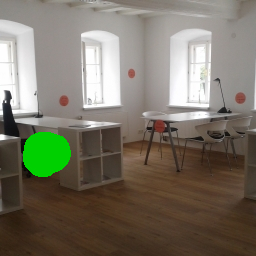focus: (14, 122, 77, 188)
